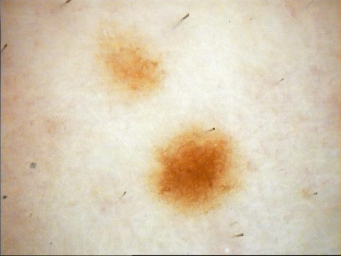nevus: (155, 133, 232, 207), (103, 42, 158, 89)
